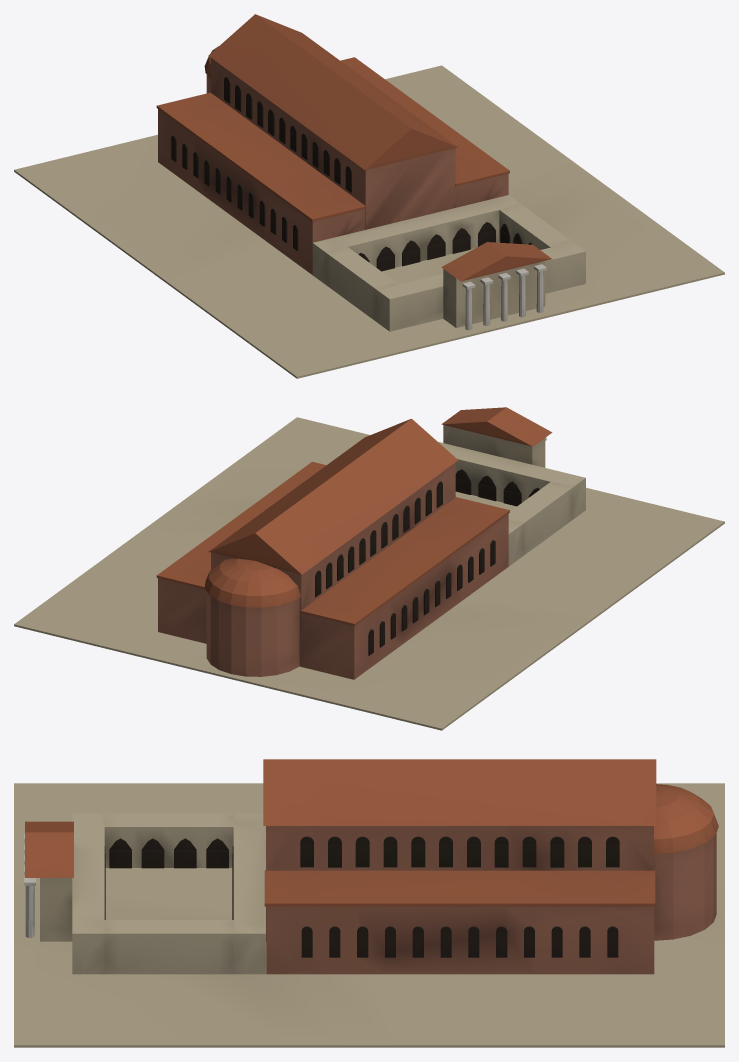
The model's file is hagia-sophia-basilica.glb.
3 renders of one model, top to bottom at view 1: azimuth 30°, elevation 25°; view 2: azimuth 150°, elevation 25°; view 3: azimuth 270°, elevation 25°, orthographic. The views are drawn at different scales.
Parts seen in each view (by area): view 1: p1_church, p0_ground, p2_porch; view 2: p1_church, p0_ground, p2_porch; view 3: p1_church, p0_ground, p2_porch.
Part boxes in pixels (x1=…): p1_church: x1=156, y1=14, x2=585, y2=331; p0_ground: x1=14, y1=65, x2=724, y2=378; p2_porch: x1=441, y1=242, x2=551, y2=330; p1_church: x1=156, y1=418, x2=585, y2=679; p0_ground: x1=14, y1=417, x2=724, y2=730; p2_porch: x1=441, y1=407, x2=552, y2=467; p1_church: x1=72, y1=759, x2=718, y2=974; p0_ground: x1=14, y1=783, x2=724, y2=1047; p2_porch: x1=24, y1=821, x2=73, y2=941.
Size of the model in its own units: 96 by 26.87 by 110.
